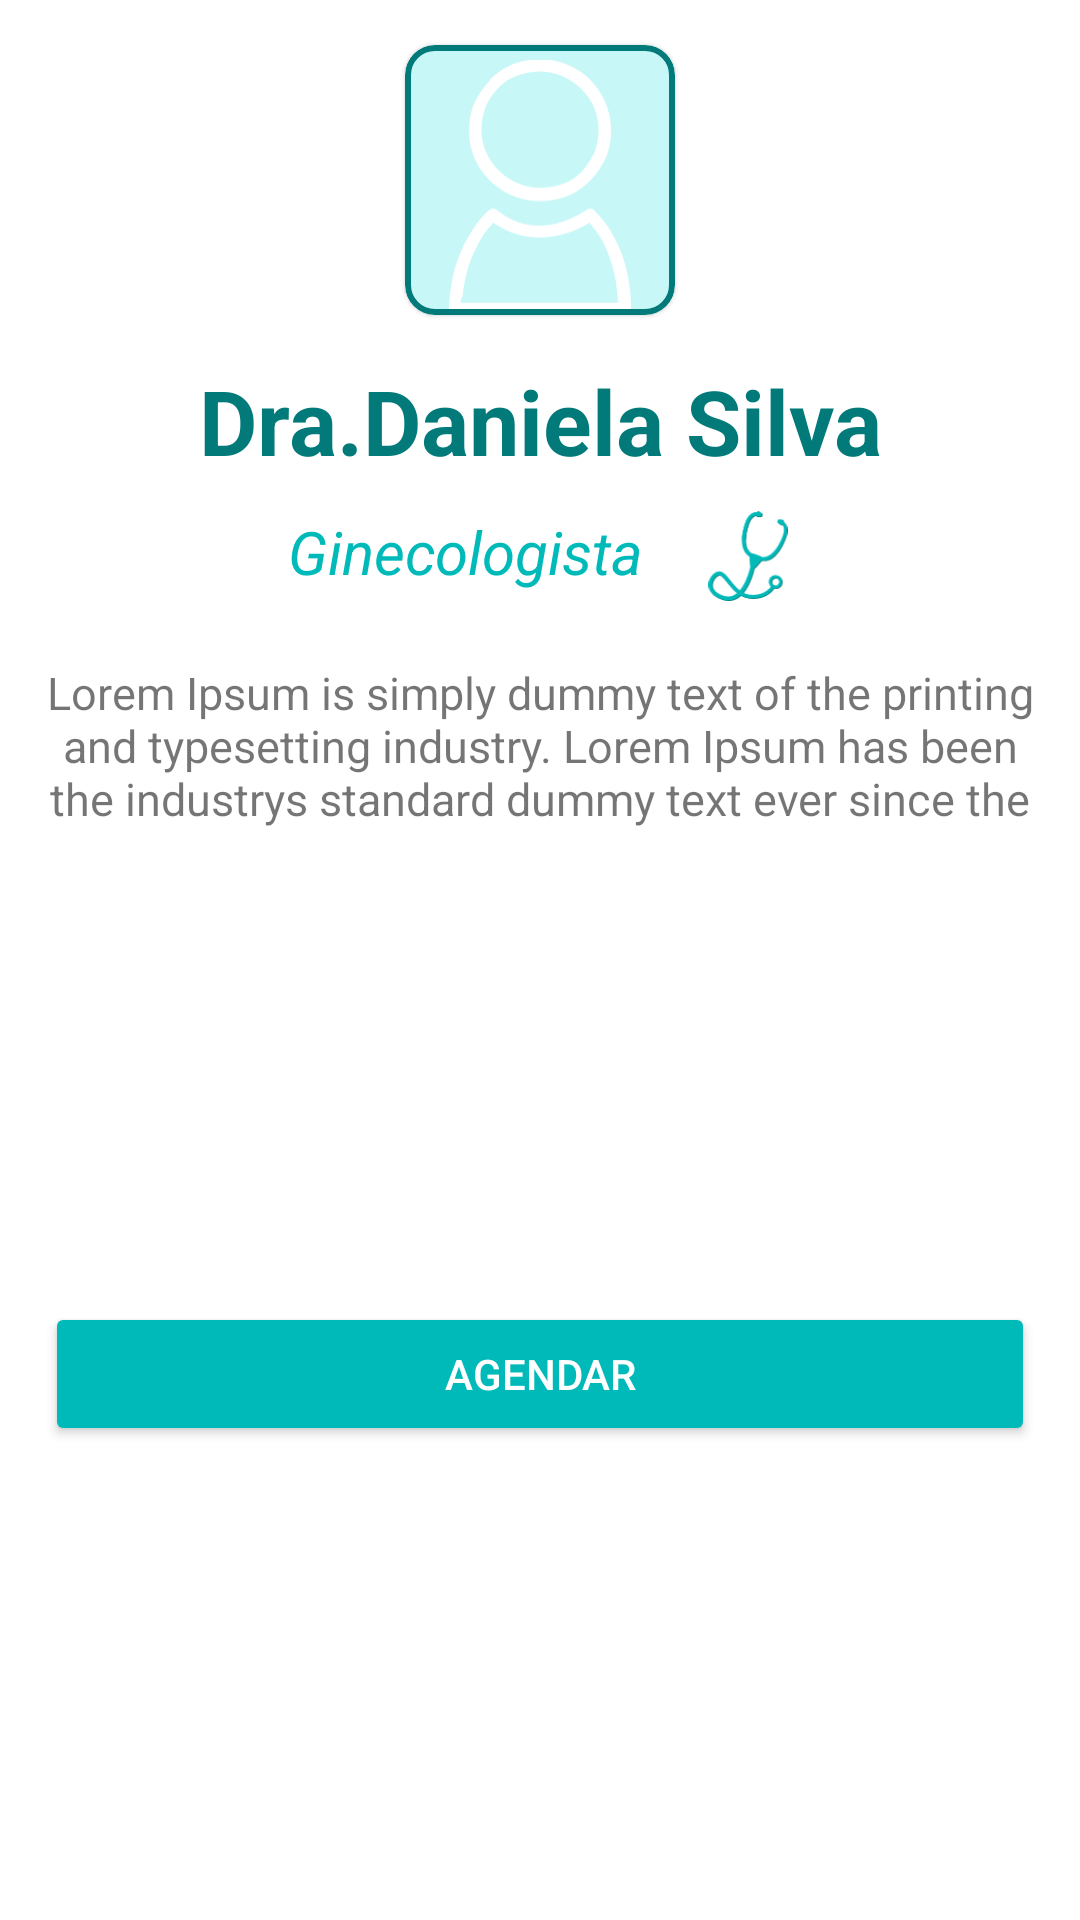

Screen size 1080px×1920px. Icon name, then its center in pixels as (x,y):
profile: (540,187)
